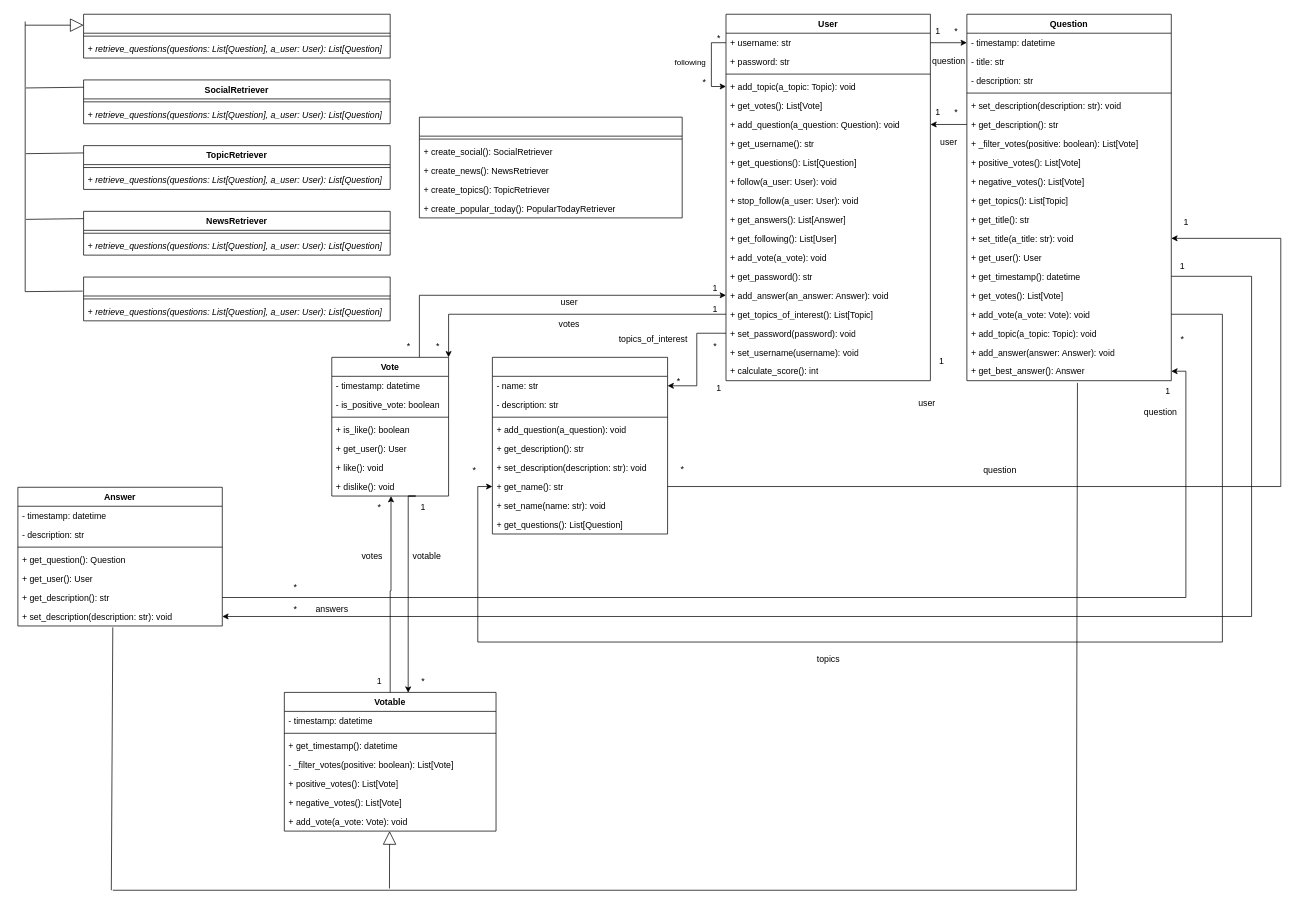
This 1299x915 diagram has some shape labels left out. The box of each missing label's shape, as (x1, y1, x2, y2) in pixels:
PopularTodayRetriever: (83, 276, 390, 321)
QuestionRetrievalStrategy: (83, 14, 390, 58)
QuestionRetriever: (419, 116, 682, 218)
Topic: (492, 357, 668, 534)
